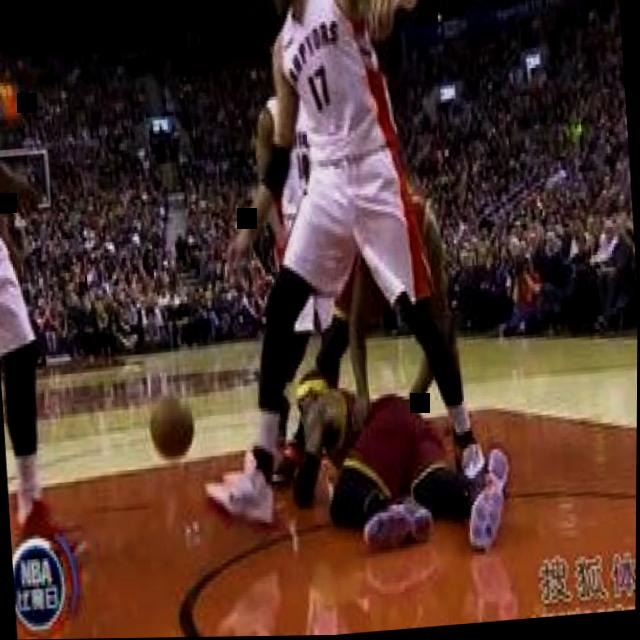Fall-Detected: (262, 331, 526, 573)
